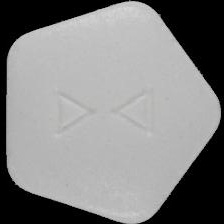66116-310: (0, 0, 224, 224)
